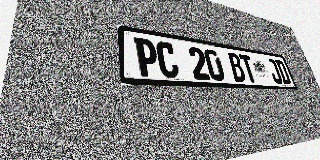0: (203, 48, 225, 81)
2: (187, 46, 211, 80)
B: (226, 52, 247, 82)
C: (155, 41, 180, 78)
D: (274, 59, 292, 84)
J: (265, 58, 284, 84)
P: (134, 37, 160, 77)
T: (239, 54, 259, 82)
